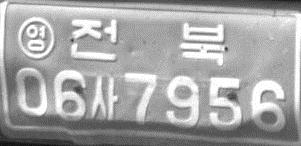0: (15, 66, 49, 116)
5: (208, 75, 244, 132)
6: (250, 79, 286, 132), (52, 69, 86, 121)
7: (123, 71, 157, 125)
9: (165, 75, 200, 129)
사: (90, 75, 119, 121)
영: (16, 15, 55, 59)
전북_D: (70, 17, 226, 65)
